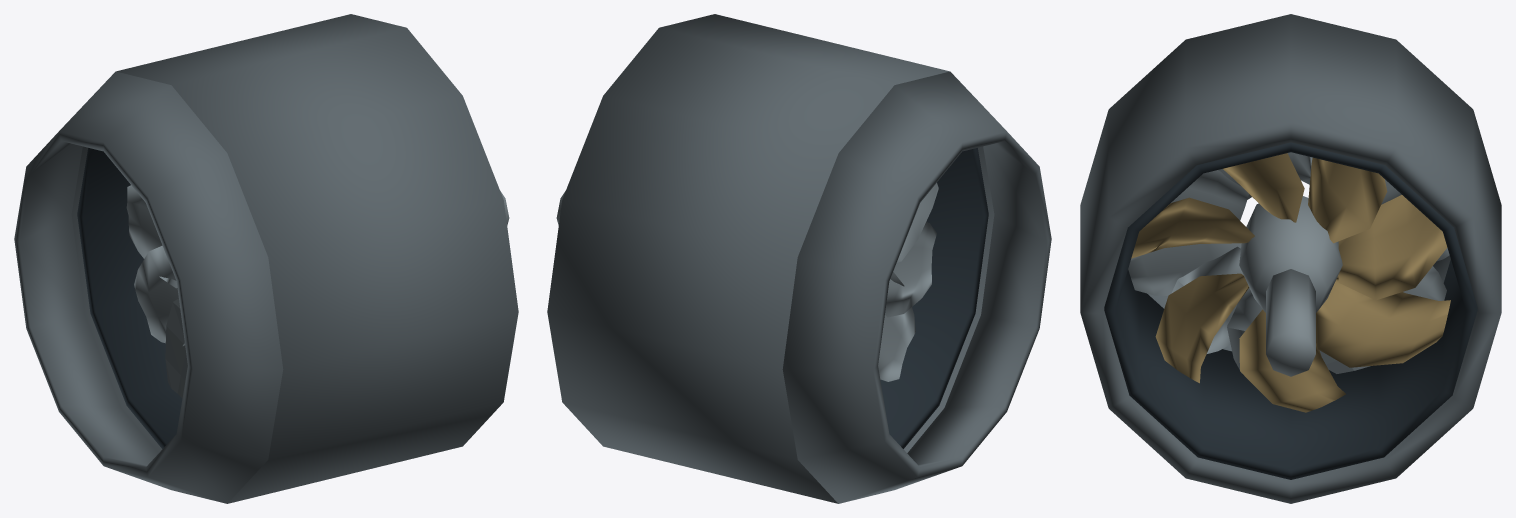
The model's file is US_PJ_Virginia_LOD3.fbx.
3 renders of one model, left to right at view 1: azimuth 30°, elevation 25°; view 2: azimuth 150°, elevation 25°; view 3: azimuth 270°, elevation 25°, orthographic. The views are drawn at different scales.
Visible parts, largest first — view 1: US_PJ_Virginia_LOD3_Housing.001, US_PJ_Virginia_LOD3_Nozzle.001, US_PJ_Virginia_LOD3_Lining.001, US_PJ_Virginia_LOD3_Stator_10.001, US_PJ_Virginia_LOD3_Stator_09.001, US_PJ_Virginia_LOD3_Stator_00.001; view 2: US_PJ_Virginia_LOD3_Housing.001, US_PJ_Virginia_LOD3_Nozzle.001, US_PJ_Virginia_LOD3_Lining.001, US_PJ_Virginia_LOD3_Stator_06.001, US_PJ_Virginia_LOD3_Stator_07.001, US_PJ_Virginia_LOD3_Stator_05.001; view 3: US_PJ_Virginia_LOD3_Housing.001, US_PJ_Virginia_LOD3_Lining.001, US_PJ_Virginia_LOD3_Rotor_06.001, US_PJ_Virginia_LOD3_Rotor_00.001, US_PJ_Virginia_LOD3_Hub.001, US_PJ_Virginia_LOD3_Rotor_04.001, US_PJ_Virginia_LOD3_Shaft.001, US_PJ_Virginia_LOD3_Rotor_01.001, US_PJ_Virginia_LOD3_Rotor_05.001, US_PJ_Virginia_LOD3_Rotor_03.001, US_PJ_Virginia_LOD3_Rotor_02.001, US_PJ_Virginia_LOD3_Stator_06.001 (+4 smaller).
Boxes of the visible parts, x1,y1,x2,y2 form: US_PJ_Virginia_LOD3_Housing.001: (71,14,518,503); US_PJ_Virginia_LOD3_Nozzle.001: (14,71,283,503); US_PJ_Virginia_LOD3_Lining.001: (77,148,182,448); US_PJ_Virginia_LOD3_Stator_10.001: (134,245,184,345); US_PJ_Virginia_LOD3_Stator_09.001: (165,298,187,398); US_PJ_Virginia_LOD3_Stator_00.001: (126,185,177,288); US_PJ_Virginia_LOD3_Housing.001: (547,14,994,503); US_PJ_Virginia_LOD3_Nozzle.001: (782,71,1051,503); US_PJ_Virginia_LOD3_Lining.001: (880,148,988,448); US_PJ_Virginia_LOD3_Stator_06.001: (885,222,936,317); US_PJ_Virginia_LOD3_Stator_07.001: (878,272,915,381); US_PJ_Virginia_LOD3_Stator_05.001: (896,183,938,262); US_PJ_Virginia_LOD3_Housing.001: (1080,14,1501,503); US_PJ_Virginia_LOD3_Lining.001: (1104,142,1477,479); US_PJ_Virginia_LOD3_Rotor_06.001: (1316,275,1450,367); US_PJ_Virginia_LOD3_Rotor_00.001: (1338,195,1447,300); US_PJ_Virginia_LOD3_Hub.001: (1239,196,1342,312); US_PJ_Virginia_LOD3_Rotor_04.001: (1155,273,1249,383); US_PJ_Virginia_LOD3_Shaft.001: (1266,269,1315,376); US_PJ_Virginia_LOD3_Rotor_01.001: (1308,157,1387,243); US_PJ_Virginia_LOD3_Rotor_05.001: (1239,309,1345,412); US_PJ_Virginia_LOD3_Rotor_03.001: (1131,197,1254,258); US_PJ_Virginia_LOD3_Rotor_02.001: (1223,153,1304,222); US_PJ_Virginia_LOD3_Stator_06.001: (1128,243,1241,295).
Size of the model in its own units: 578 by 570 by 570.
